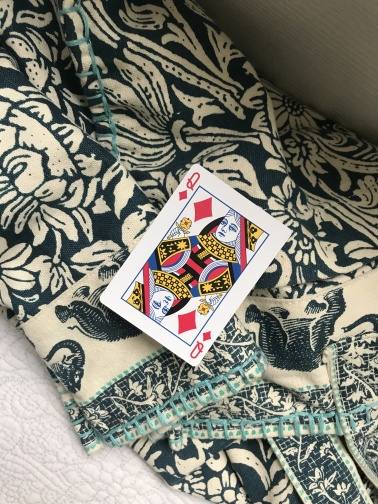queen: (98, 163, 293, 368)
